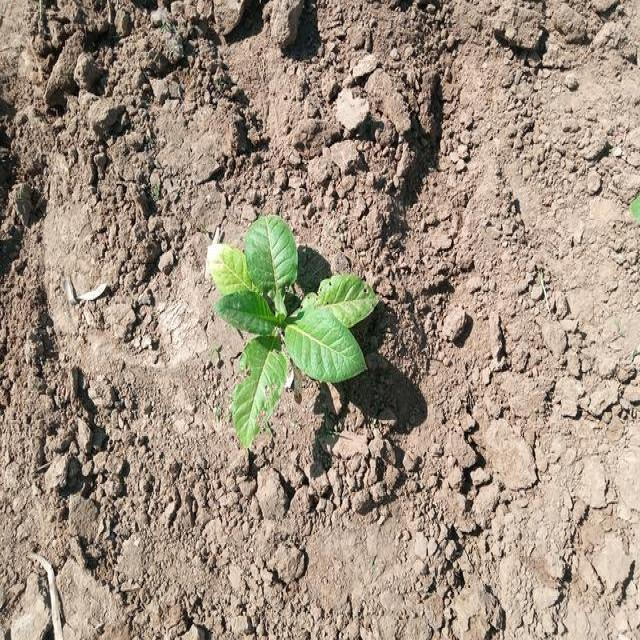crop: (214, 230, 378, 440)
